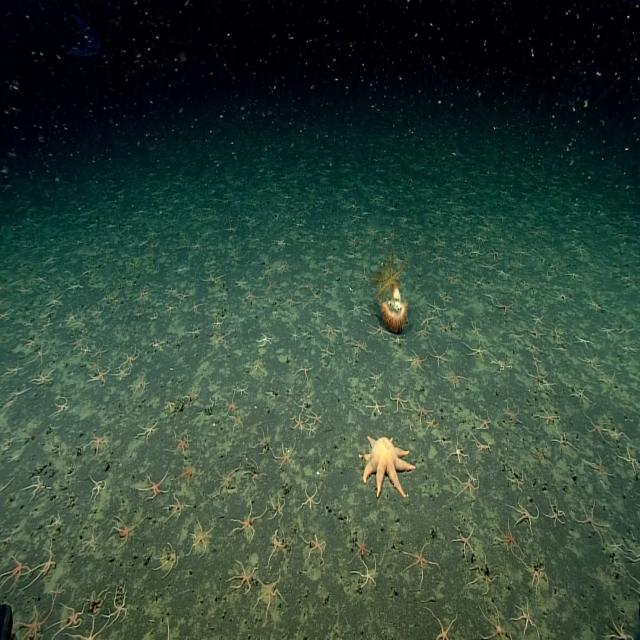brittle-stars: (17, 603, 54, 640), (576, 499, 606, 541), (403, 543, 435, 580), (257, 574, 285, 615), (233, 502, 263, 538), (428, 610, 461, 640), (479, 606, 508, 640), (74, 614, 110, 640), (496, 521, 521, 557), (56, 604, 85, 635), (514, 602, 538, 638), (231, 560, 256, 594), (513, 499, 538, 533), (140, 469, 168, 499), (190, 520, 213, 556), (33, 546, 55, 582), (473, 556, 496, 590), (3, 554, 27, 586), (610, 614, 638, 640), (112, 515, 136, 545), (177, 457, 201, 486), (354, 559, 377, 589), (109, 589, 128, 625), (197, 265, 228, 287), (159, 542, 179, 576), (453, 475, 478, 501), (216, 468, 238, 497), (304, 535, 326, 563), (454, 526, 474, 556), (620, 444, 640, 474), (46, 437, 66, 466), (156, 614, 178, 640), (544, 500, 563, 529), (167, 494, 187, 520), (586, 414, 606, 440), (274, 446, 295, 470), (528, 564, 547, 590), (137, 420, 159, 442), (536, 405, 558, 427), (443, 368, 466, 389), (82, 528, 102, 552), (28, 476, 48, 500), (433, 430, 452, 455), (389, 388, 408, 412), (588, 454, 607, 478), (352, 537, 370, 561), (303, 485, 321, 509), (172, 433, 190, 457), (270, 530, 286, 557), (89, 434, 110, 454), (186, 322, 207, 342), (271, 495, 287, 520), (246, 459, 262, 484), (528, 364, 548, 384), (413, 401, 432, 422), (258, 429, 274, 453), (91, 590, 107, 614), (465, 341, 485, 360), (554, 428, 573, 448), (34, 366, 55, 384), (32, 343, 50, 364), (0, 475, 14, 502), (427, 251, 448, 269), (90, 478, 107, 500), (451, 442, 468, 464), (437, 318, 454, 340), (133, 374, 149, 397), (509, 468, 525, 491), (368, 398, 387, 417), (90, 367, 110, 385), (432, 345, 450, 365), (409, 351, 426, 372), (52, 580, 69, 601), (349, 336, 367, 355), (20, 333, 38, 352), (571, 383, 588, 403), (368, 326, 388, 343), (124, 347, 141, 367), (183, 386, 200, 406), (586, 295, 604, 313), (231, 411, 248, 430), (626, 544, 640, 567), (504, 404, 520, 424), (495, 300, 513, 317), (582, 352, 600, 369), (0, 528, 17, 546), (476, 412, 492, 431), (66, 306, 81, 326), (50, 510, 64, 531), (475, 438, 492, 455), (298, 360, 314, 378), (555, 286, 571, 304), (94, 341, 110, 359), (55, 398, 70, 417), (608, 535, 623, 554), (321, 322, 338, 338), (493, 356, 510, 372), (631, 570, 640, 600), (0, 435, 15, 453), (259, 333, 275, 349), (46, 292, 62, 308), (6, 449, 22, 465), (5, 361, 22, 376), (601, 373, 616, 390), (112, 366, 130, 380), (575, 334, 590, 350), (150, 337, 163, 355), (510, 330, 524, 346), (428, 302, 444, 316), (600, 323, 616, 337), (356, 268, 370, 284), (552, 329, 566, 345), (610, 425, 623, 442), (284, 292, 298, 307), (236, 383, 250, 398), (320, 344, 334, 359), (214, 334, 228, 349), (189, 301, 202, 317), (292, 414, 304, 431), (224, 395, 236, 412), (314, 462, 326, 479), (572, 242, 586, 256), (526, 342, 540, 356), (68, 279, 82, 293), (311, 411, 324, 426), (245, 287, 258, 302), (91, 305, 104, 320), (165, 397, 178, 412), (251, 357, 262, 374), (528, 326, 542, 339), (420, 314, 433, 328), (212, 316, 224, 331), (225, 218, 237, 233), (470, 320, 481, 336), (80, 342, 91, 358), (177, 289, 190, 302), (416, 327, 430, 339), (138, 286, 150, 300), (567, 270, 581, 282), (312, 308, 326, 320), (425, 418, 437, 432), (90, 278, 102, 292), (484, 263, 499, 274), (0, 308, 11, 323), (72, 335, 83, 350), (236, 276, 248, 289), (165, 303, 177, 316), (470, 245, 482, 258), (296, 399, 308, 412), (392, 336, 405, 348), (496, 268, 509, 280), (266, 280, 278, 293), (484, 288, 497, 300), (471, 275, 483, 288), (447, 272, 458, 286), (531, 314, 543, 326), (476, 233, 488, 245), (542, 380, 554, 392), (36, 274, 48, 286), (81, 266, 93, 278), (218, 286, 229, 299), (147, 227, 158, 240), (351, 303, 362, 316), (164, 284, 175, 296), (454, 248, 465, 260), (352, 211, 363, 223), (442, 291, 453, 303), (544, 272, 555, 284), (290, 328, 300, 341), (439, 237, 450, 248), (491, 248, 502, 259), (308, 424, 318, 436), (191, 240, 201, 252), (322, 267, 332, 278), (399, 213, 409, 224), (480, 222, 491, 232), (278, 238, 287, 250), (349, 202, 358, 212), (326, 252, 335, 262)
